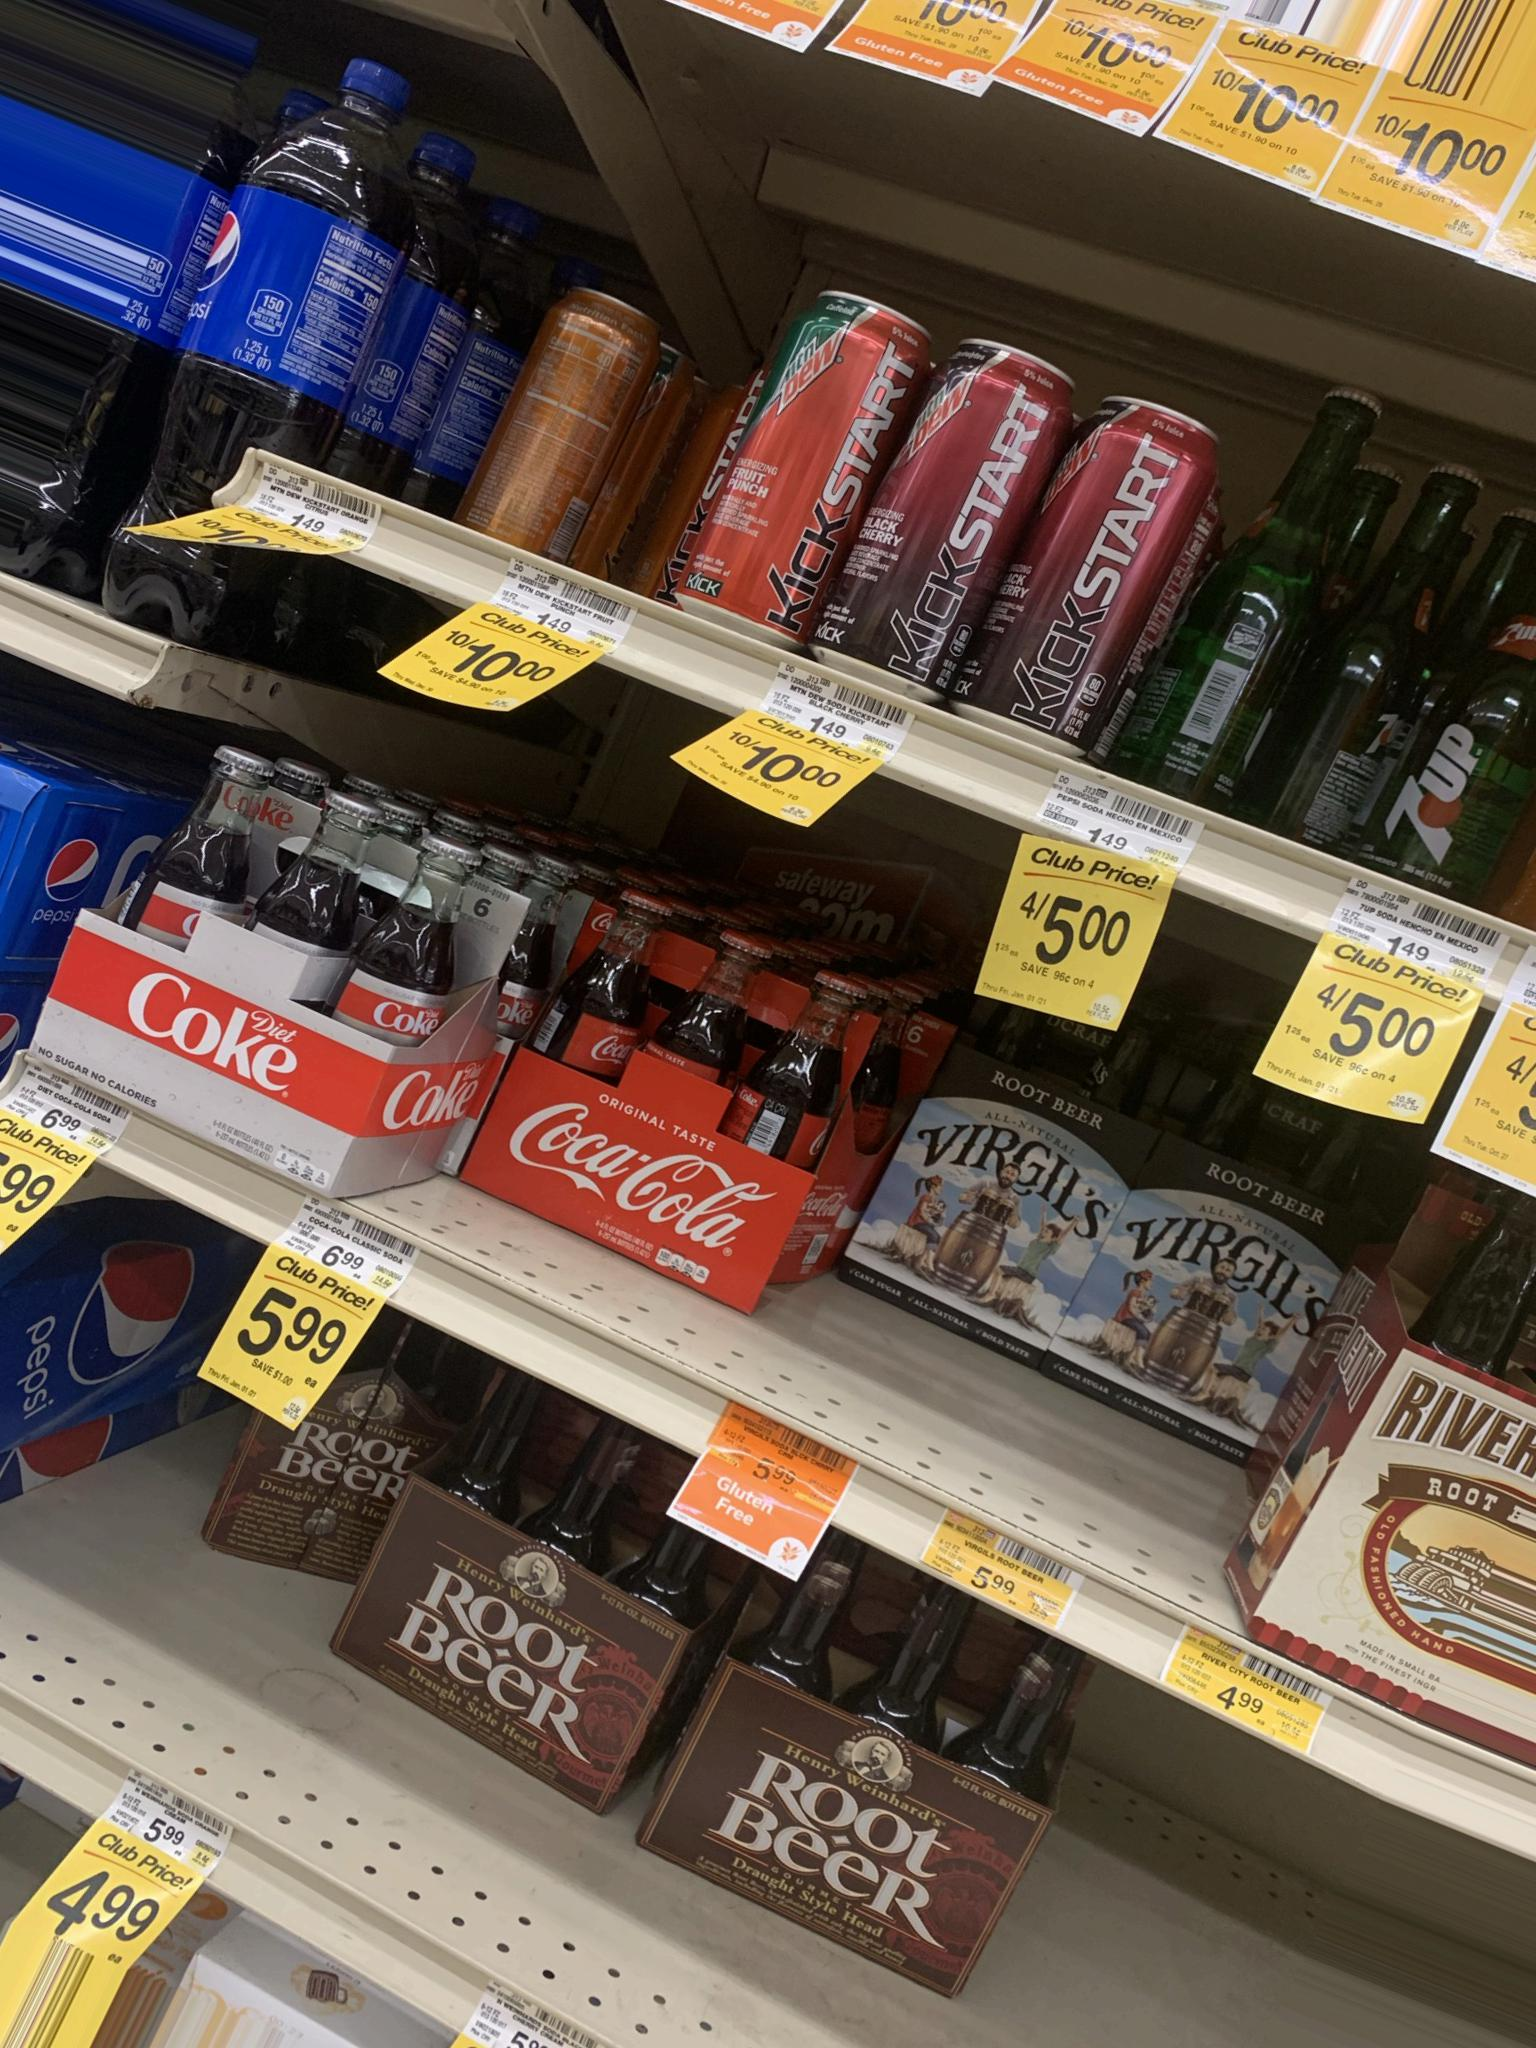soda: (68, 81, 528, 619), (60, 785, 419, 1187), (707, 1563, 999, 1975), (532, 880, 789, 1313), (381, 1408, 650, 1790)
